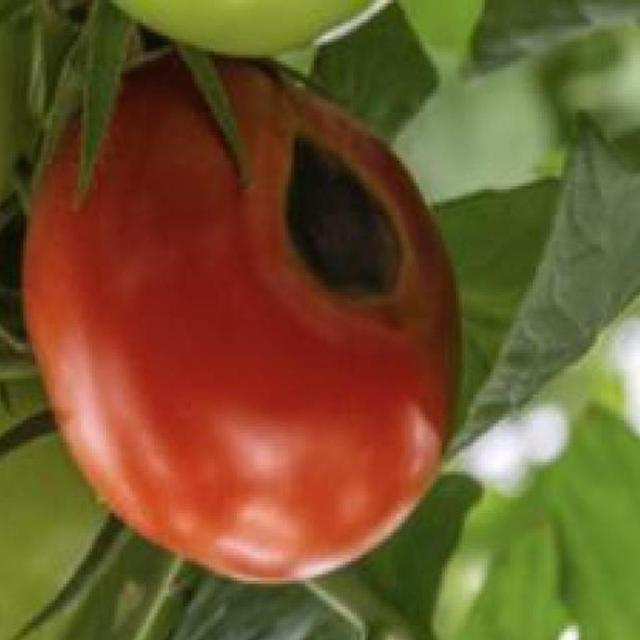Blossom End Rot Fruit: (178, 80, 271, 211)
